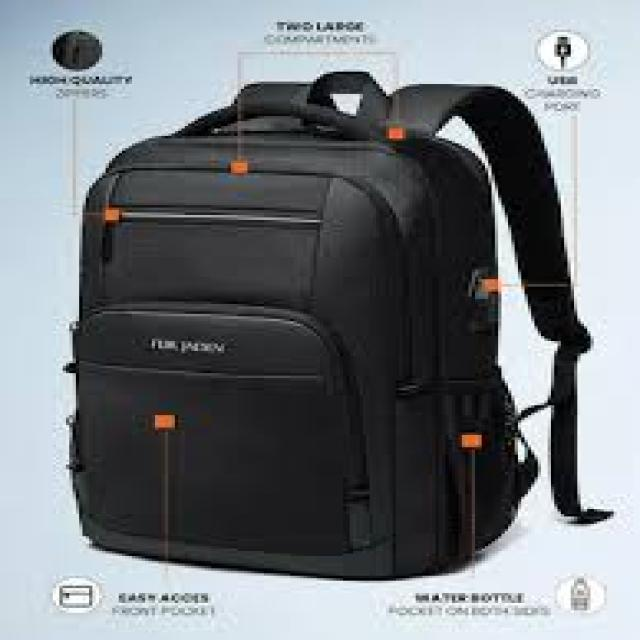backpack: (64, 70, 611, 579)
